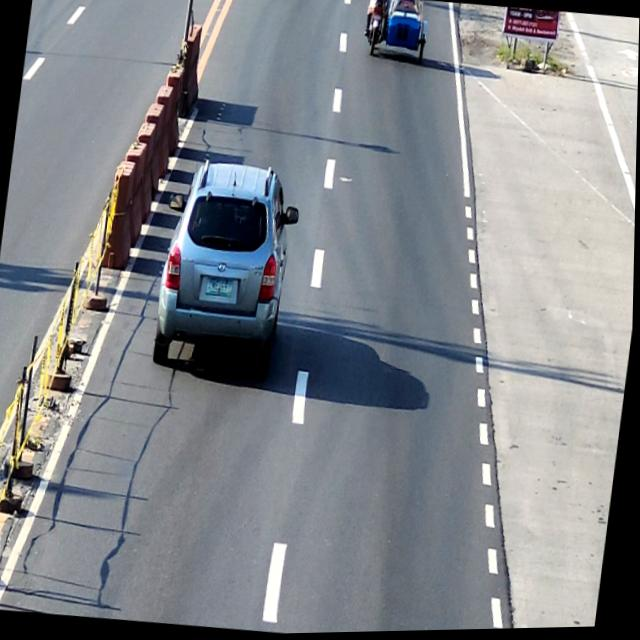Car: (149, 154, 306, 386)
License-Plate: (207, 279, 235, 298), (371, 14, 382, 23)
Tricycle: (362, 0, 430, 63)
